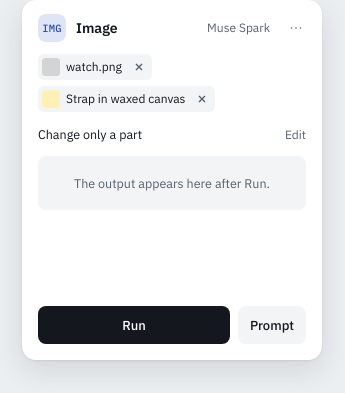
Test: NodeCard › a 409 NODE_RUNNING is treated as running
The width and height of the screenshot is (345, 393).
Click the button "Run": click(134, 325) x1=38 y1=306 x2=230 y2=344
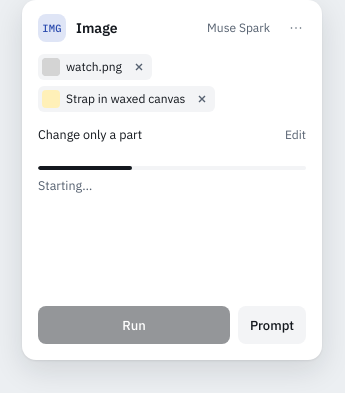
Expected: the message is not shown
Result: the progress indicator is shown at x1=38 y1=166 x2=306 y2=170
Result: the button "Run" is disabled at x1=38 y1=306 x2=230 y2=344
